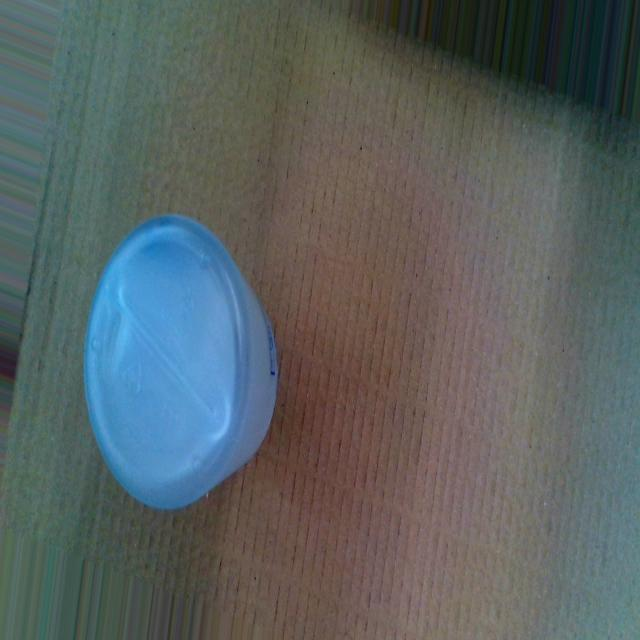bottle: (83, 210, 281, 516)
